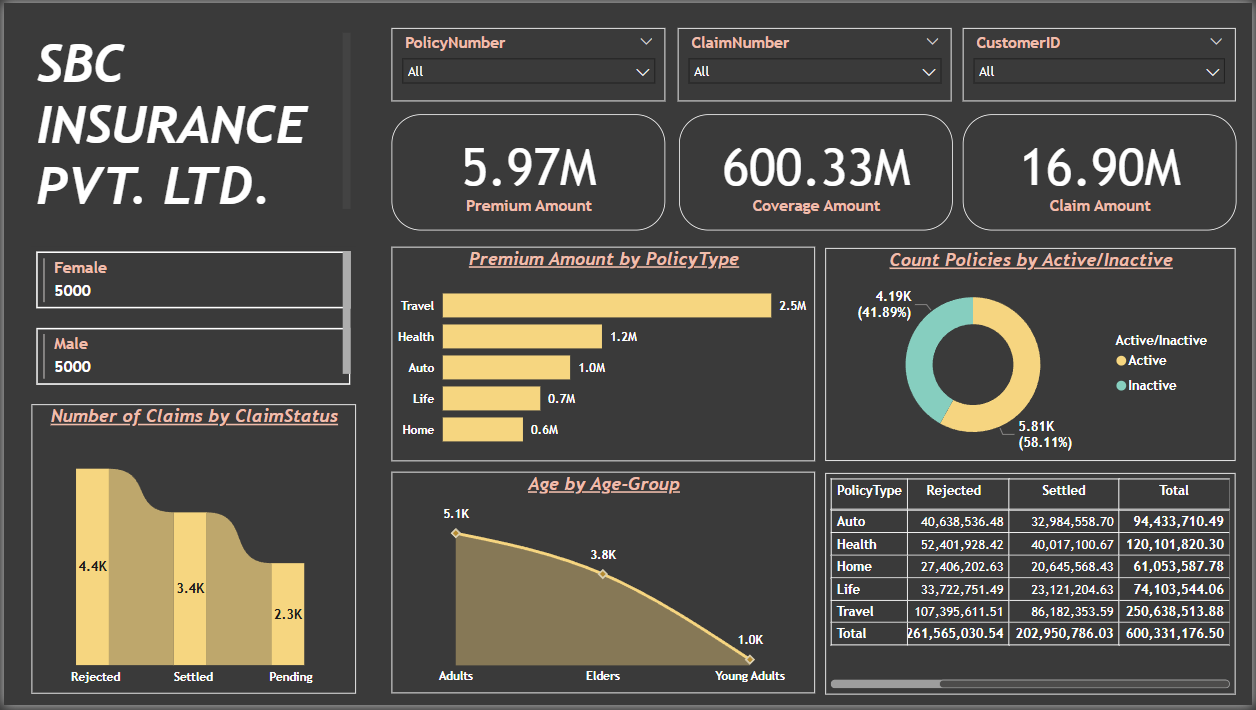

This screenshot's page, from the dashboard's own definition file:
{"tool":"powerbi","page":{"name":"Dashboard","canvas":[1280,720],"ordinal":0},"visuals":[{"type":"slicer","fields":{"Values":["InsuranceData.PolicyNumber"]},"box":[397.5,25.8,281,74.8],"z":0},{"type":"slicer","fields":{"Values":["InsuranceData.ClaimNumber"]},"box":[690.8,25.8,281,74.8],"z":1000},{"type":"slicer","fields":{"Values":["InsuranceData.CustomerID"]},"box":[982.8,25.8,279.8,74.8],"z":2000},{"type":"textbox","box":[28.2,25.8,332.5,193.9],"z":3000},{"type":"card","fields":{"Values":["Sum(InsuranceData.PremiumAmount)"]},"box":[397.5,114.1,281,119],"z":4000},{"type":"card","fields":{"Values":["Sum(InsuranceData.CoverageAmount)"]},"box":[692,114.1,281,119],"z":5000},{"type":"card","fields":{"Values":["Sum(InsuranceData.ClaimAmount)"]},"box":[982.8,114.1,281,119],"z":6000},{"type":"multiRowCard","fields":{"Values":["InsuranceData.Gender","CountNonNull(InsuranceData.Gender)"]},"box":[28.2,260.1,332.5,150.9],"z":7000},{"type":"ribbonChart","title":"Number of Claims by ClaimStatus","fields":{"Category":["InsuranceData.ClaimStatus"],"Y":["CountNonNull(InsuranceData.ClaimStatus)"]},"box":[28.2,411,332.5,296.9],"z":8000},{"type":"barChart","title":"Premium Amount by PolicyType","fields":{"Y":["Sum(InsuranceData.PremiumAmount)"],"Category":["InsuranceData.PolicyType"]},"box":[397.5,250.3,434.4,219.6],"z":9000},{"type":"lineChart","title":"Age by Age-Group","fields":{"Category":["InsuranceData.AgeGroup"],"Y":["Sum(InsuranceData.Age)"]},"box":[397.5,481,434.4,227],"z":10000},{"type":"donutChart","fields":{"Category":["InsuranceData.Active/Inactive"],"Y":["CountNonNull(InsuranceData.Active/Inactive)"]},"box":[841.7,251.5,420.9,218.4],"z":11000},{"type":"pivotTable","fields":{"Values":["Sum(InsuranceData.CoverageAmount)"],"Columns":["InsuranceData.ClaimStatus"],"Rows":["InsuranceData.PolicyType"]},"box":[841.7,482.2,420.9,227],"z":12000}]}

Visuals, with their boxes in screenshot pixels (x1, y1, x2, y2), scaled from the page's 1280x720 canvas onto the 1256x710 screenshot:
slicer - InsuranceData.PolicyNumber: locate(390, 25, 666, 99)
slicer - InsuranceData.ClaimNumber: locate(678, 25, 954, 99)
slicer - InsuranceData.CustomerID: locate(964, 25, 1239, 99)
textbox: locate(28, 25, 354, 217)
card - Sum(InsuranceData.PremiumAmount): locate(390, 113, 666, 230)
card - Sum(InsuranceData.CoverageAmount): locate(679, 113, 955, 230)
card - Sum(InsuranceData.ClaimAmount): locate(964, 113, 1240, 230)
multiRowCard - InsuranceData.Gender x CountNonNull(InsuranceData.Gender): locate(28, 256, 354, 405)
"Number of Claims by ClaimStatus" ribbonChart: locate(28, 405, 354, 698)
"Premium Amount by PolicyType" barChart: locate(390, 247, 816, 463)
"Age by Age-Group" lineChart: locate(390, 474, 816, 698)
donutChart - InsuranceData.Active/Inactive x CountNonNull(InsuranceData.Active/Inactive): locate(826, 248, 1239, 463)
pivotTable - Sum(InsuranceData.CoverageAmount) x InsuranceData.ClaimStatus: locate(826, 476, 1239, 699)
